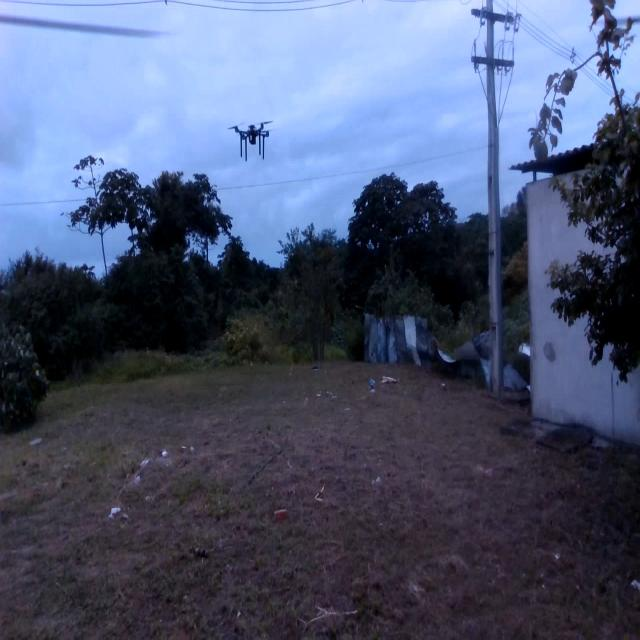-uav-: (226, 113, 277, 166)
